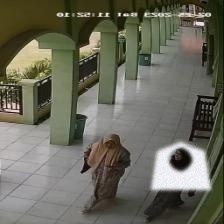Mukena: (151, 142, 210, 189)
